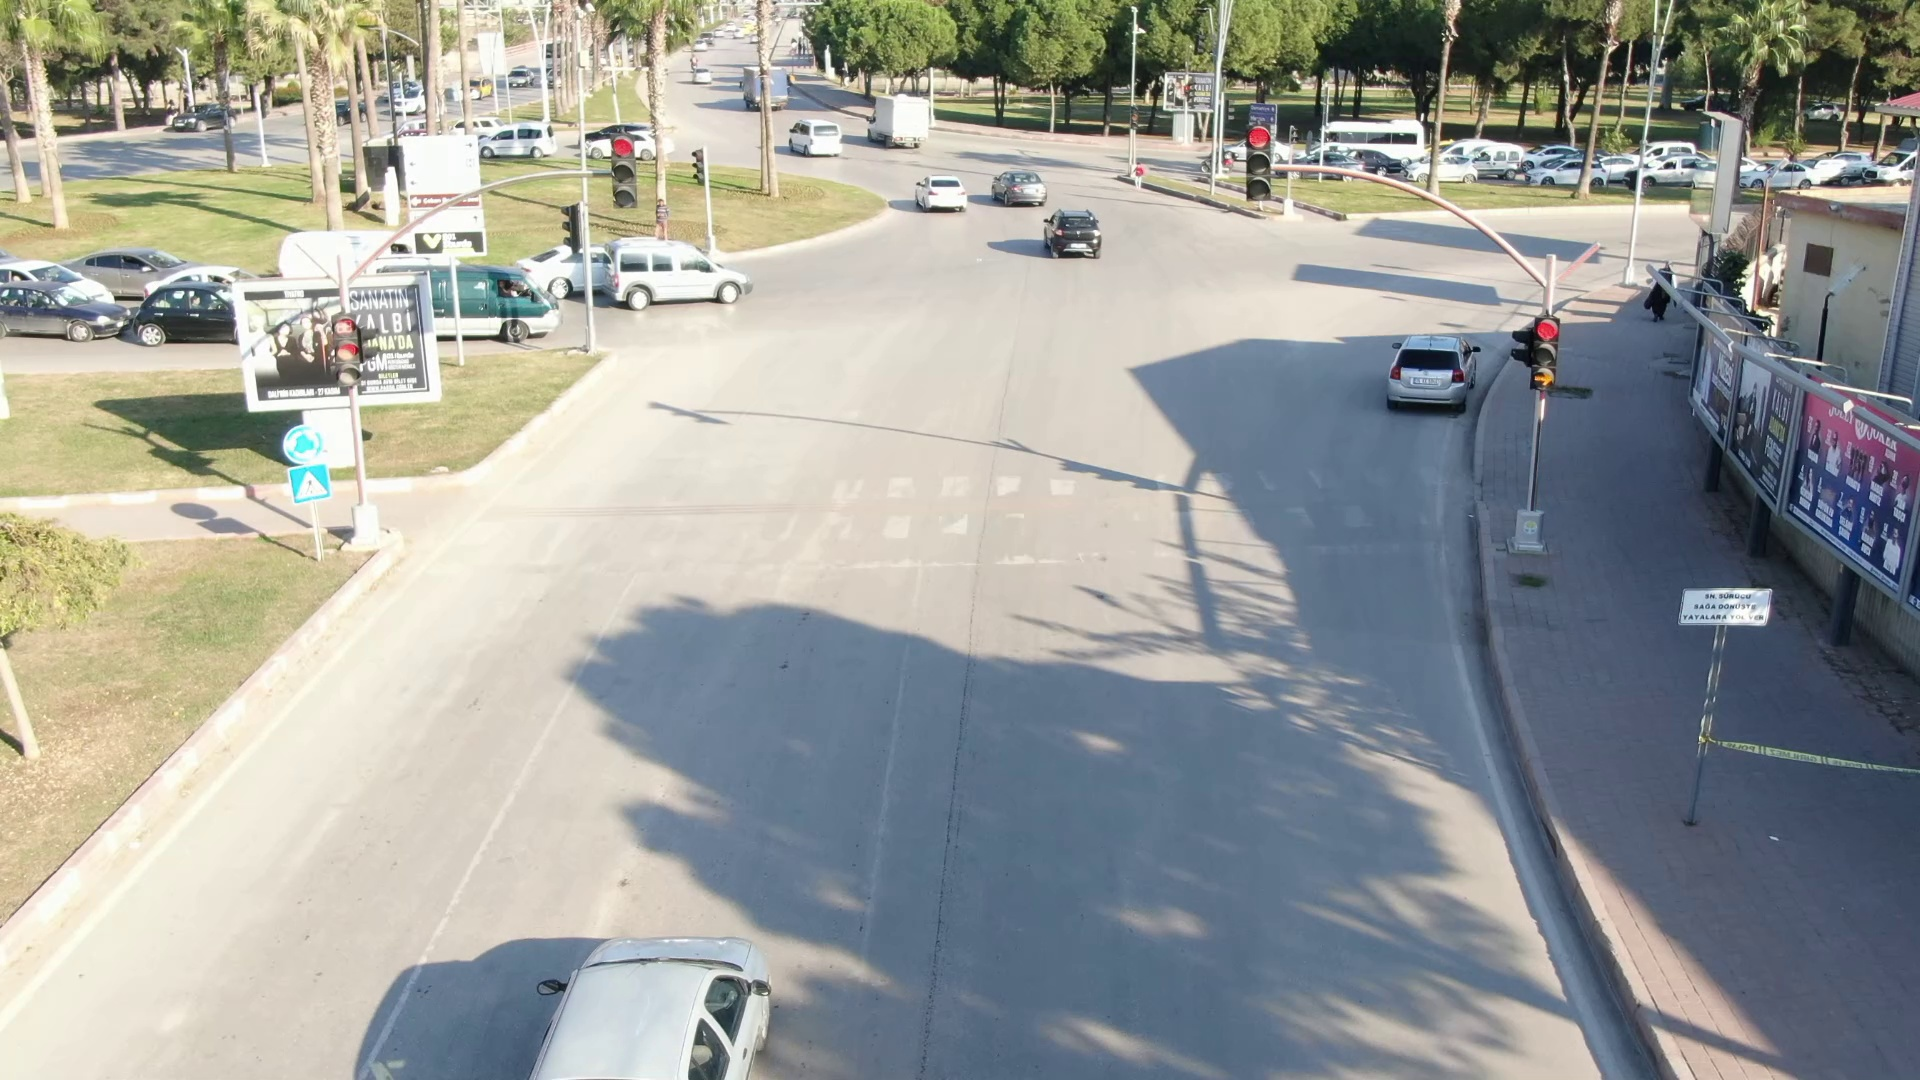car: (483, 893, 804, 1080), (1360, 309, 1485, 436), (599, 219, 742, 320), (473, 113, 571, 171), (861, 88, 940, 153), (1038, 200, 1113, 268), (779, 109, 849, 164), (909, 167, 972, 218), (985, 157, 1051, 204)
